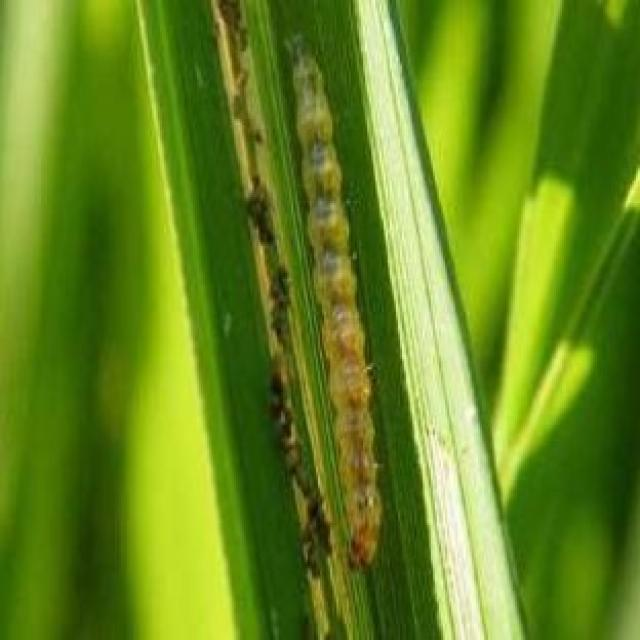rice leaf roller: (211, 0, 377, 617)
